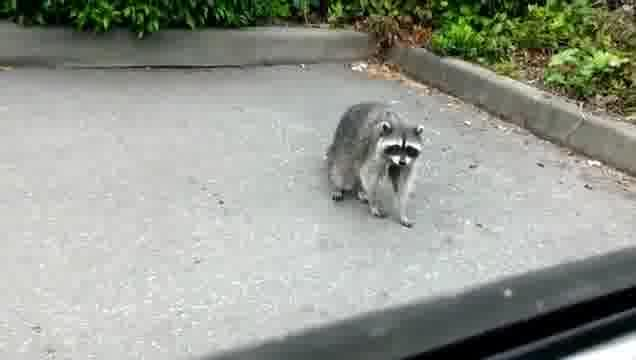raccoon: (323, 101, 425, 228)
